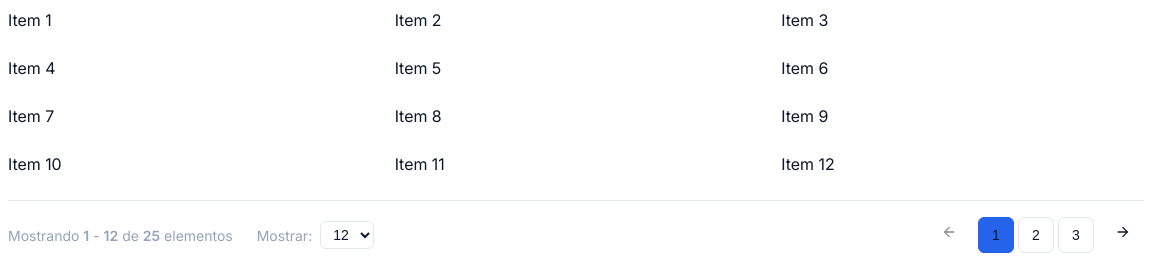
it: PaginatedGrid › disables next button on last page
Navigate to last page
Step 1. Click the button named "Página 3" → coordinates (1076, 235), box x1=1058 y1=217 x2=1094 y2=253
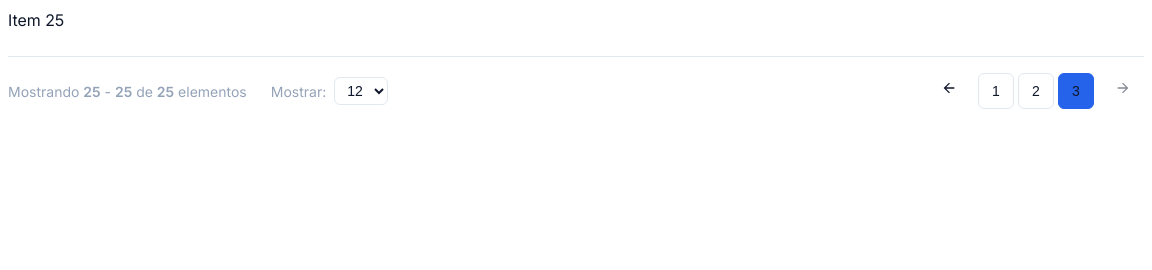
Now the button named "Página siguiente" is disabled, box x1=1102 y1=75 x2=1144 y2=107
